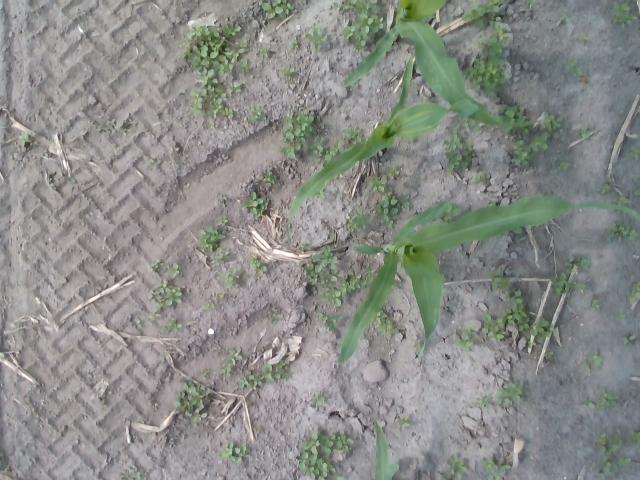Maize: (338, 195, 640, 370), (288, 56, 478, 243), (342, 0, 544, 127), (374, 420, 398, 480)
Weeds: (180, 23, 247, 76), (300, 429, 353, 480), (332, 0, 384, 50), (464, 39, 506, 98), (192, 75, 240, 117), (281, 108, 317, 160), (238, 358, 292, 390), (443, 116, 473, 172), (175, 381, 210, 424), (374, 187, 409, 228), (599, 446, 631, 480), (505, 290, 530, 331), (300, 260, 338, 286), (342, 267, 378, 294), (148, 279, 182, 305), (500, 105, 529, 134), (550, 272, 586, 294), (460, 1, 486, 30), (314, 244, 339, 272), (480, 458, 511, 480), (604, 223, 638, 243), (241, 192, 268, 217), (611, 2, 638, 26), (496, 381, 524, 404), (200, 227, 225, 252), (305, 24, 327, 52), (262, 0, 294, 19), (482, 314, 504, 341), (349, 209, 373, 232), (316, 287, 342, 308), (221, 268, 247, 288), (512, 140, 532, 166), (222, 443, 250, 461), (530, 318, 555, 338), (317, 312, 343, 331), (144, 304, 164, 328), (448, 454, 466, 479), (598, 388, 618, 408), (482, 268, 500, 290), (160, 317, 182, 334), (368, 175, 387, 194), (529, 133, 548, 152), (379, 320, 399, 338), (248, 106, 268, 124), (214, 248, 232, 266), (454, 332, 472, 350), (541, 114, 561, 130), (16, 130, 36, 146), (445, 202, 462, 220), (324, 142, 341, 160), (268, 306, 284, 324), (121, 467, 143, 480), (342, 128, 362, 142), (492, 26, 510, 41), (310, 137, 324, 156), (227, 346, 244, 361), (588, 350, 604, 365), (280, 66, 294, 82), (608, 436, 622, 451), (264, 174, 278, 188), (631, 281, 640, 302), (311, 392, 325, 405), (396, 416, 409, 430), (626, 146, 639, 160), (576, 126, 590, 139), (620, 334, 638, 344), (218, 364, 231, 377), (474, 170, 487, 183), (248, 256, 260, 270), (486, 0, 500, 12), (170, 263, 180, 279), (376, 311, 388, 324), (477, 396, 490, 408), (628, 431, 640, 444), (386, 165, 399, 177), (576, 258, 590, 269), (566, 58, 578, 70), (489, 14, 501, 26), (148, 259, 159, 272), (588, 300, 601, 310), (614, 196, 628, 205), (314, 189, 324, 201), (202, 301, 215, 310), (218, 216, 228, 227), (500, 278, 510, 289), (571, 67, 582, 77), (144, 156, 154, 167), (161, 262, 170, 274), (260, 47, 272, 56), (298, 243, 313, 250), (240, 60, 248, 73), (202, 368, 212, 378), (544, 348, 554, 358), (464, 324, 476, 332), (598, 433, 606, 444), (558, 162, 570, 169), (580, 402, 596, 407), (564, 256, 574, 264), (602, 183, 610, 193), (290, 40, 300, 48), (135, 318, 142, 329), (216, 293, 225, 300), (578, 34, 588, 40), (258, 267, 266, 274), (528, 342, 536, 349), (210, 122, 218, 129), (617, 312, 625, 318), (632, 174, 638, 182), (560, 14, 566, 20), (526, 0, 532, 6), (568, 269, 578, 272), (633, 190, 640, 194), (615, 428, 621, 432)
